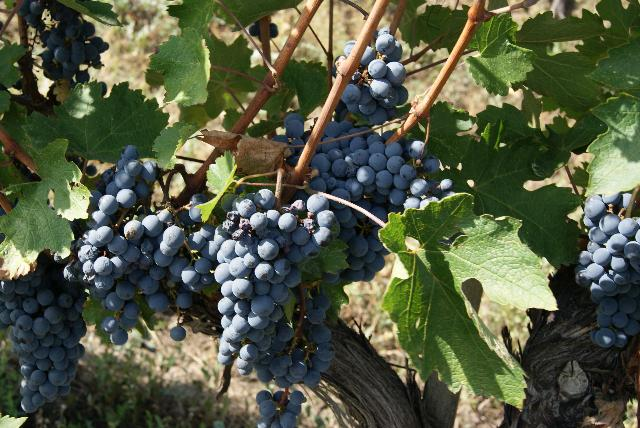grapes: (186, 190, 340, 382), (0, 252, 86, 414), (575, 192, 640, 348)
